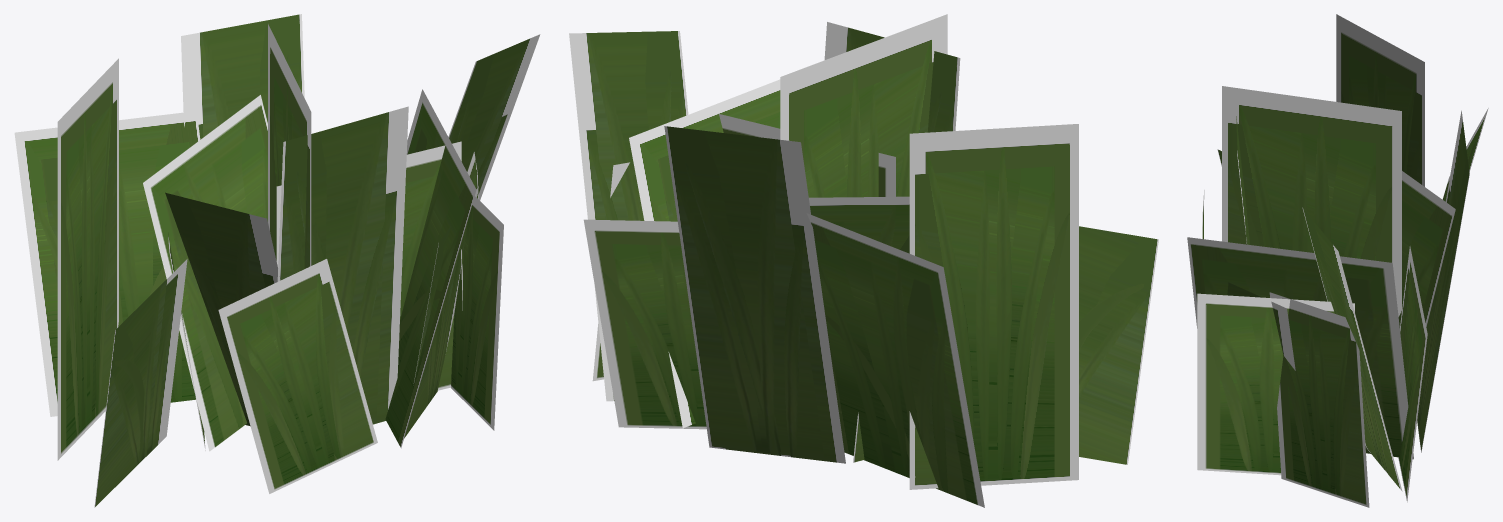
File: GrassD 1.fbx
3 renders of one model, left to right at view 1: azimuth 30°, elevation 25°; view 2: azimuth 150°, elevation 25°; view 3: azimuth 270°, elevation 25°, orthographic. The views are drawn at different scales.
Visible parts, largest first — view 1: GrassD; view 2: GrassD; view 3: GrassD.
Part boxes in pixels (box(x1,y1,x2,y2)): GrassD: box(14, 14, 540, 507); GrassD: box(569, 14, 1158, 507); GrassD: box(1187, 14, 1488, 507).
Size of the model in its own units: 1.69 by 1.21 by 1.01.
